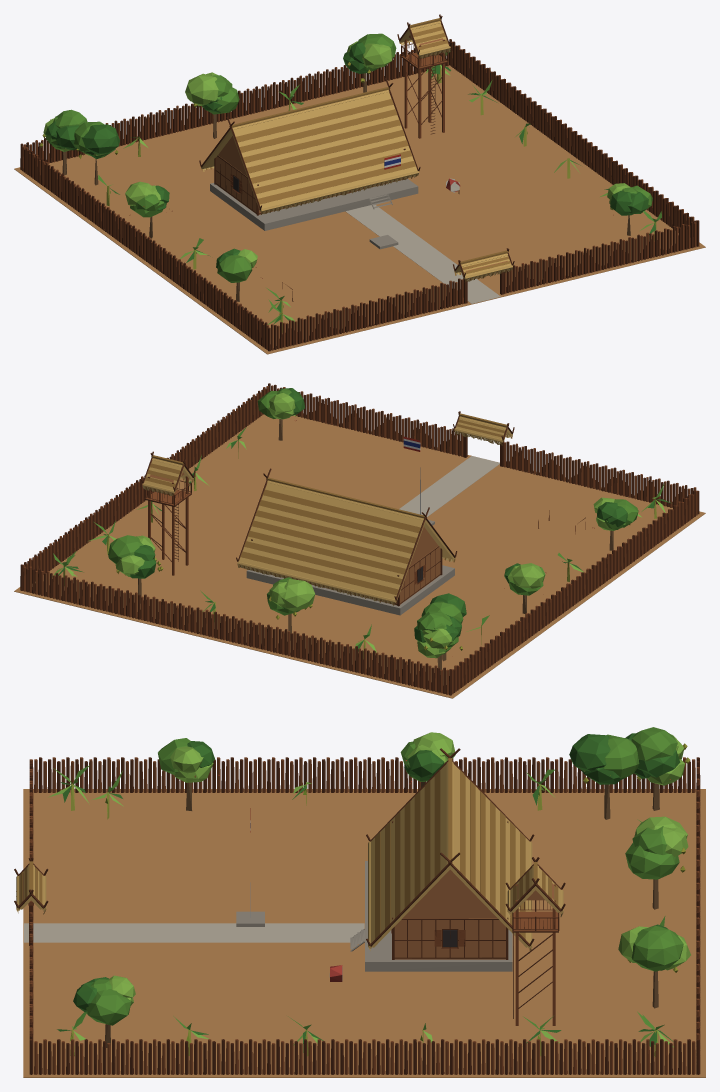
The model's file is police.glb.
3 views of the same model, one above another, from view 1: azimuth 30°, elevation 25°; view 2: azimuth 150°, elevation 25°; view 3: azimuth 270°, elevation 25° (orthographic). The views are drawn at different scales.
Visible parts, largest first — view 1: body; view 2: body; view 3: body.
Boxes of the visible parts, <box> form: body: <box>14,14,705,354</box>; body: <box>14,383,705,698</box>; body: <box>14,727,705,1077</box>.
Bounding box in the file's own units: 47.9 × 11.69 × 48.56.
